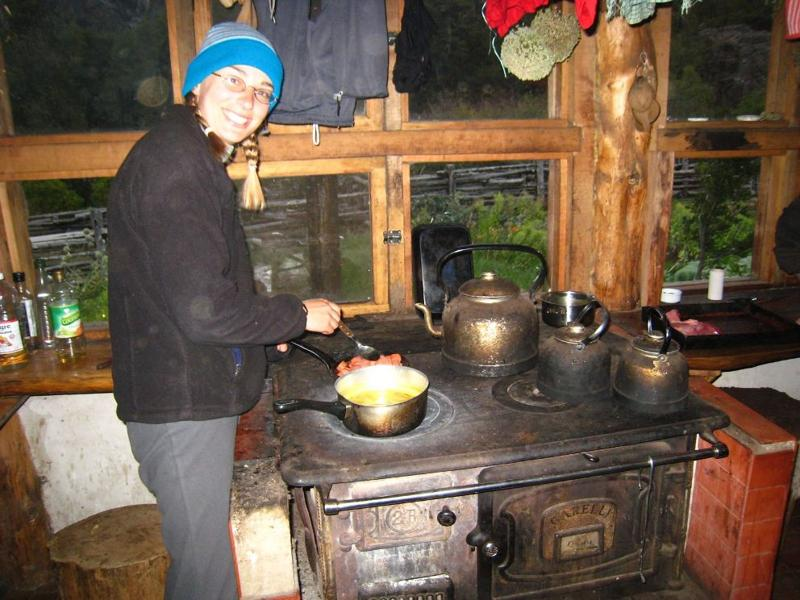person: (108, 21, 340, 599)
